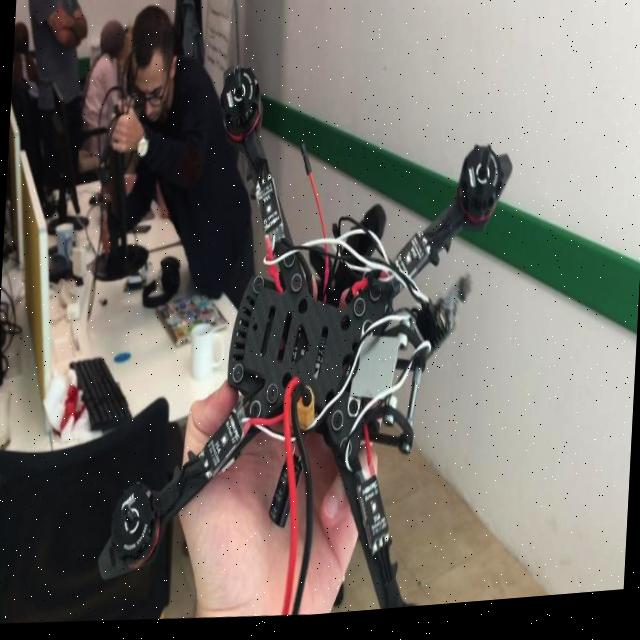drone: (68, 35, 548, 636)
